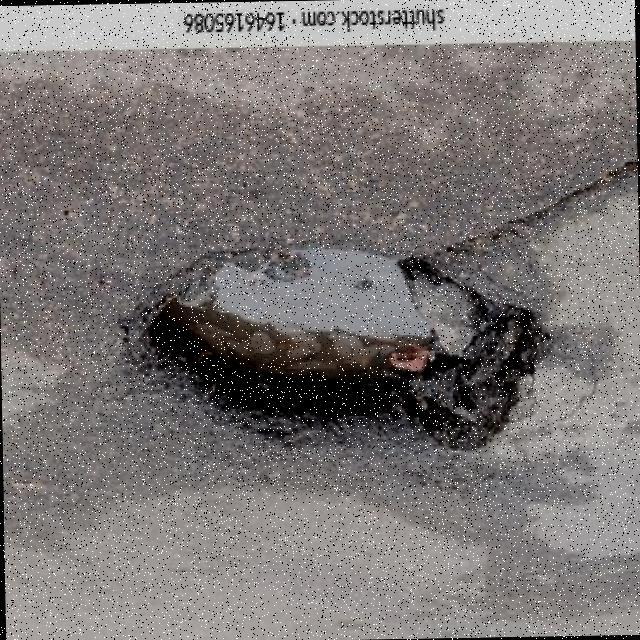Pothole: (142, 249, 529, 450)
